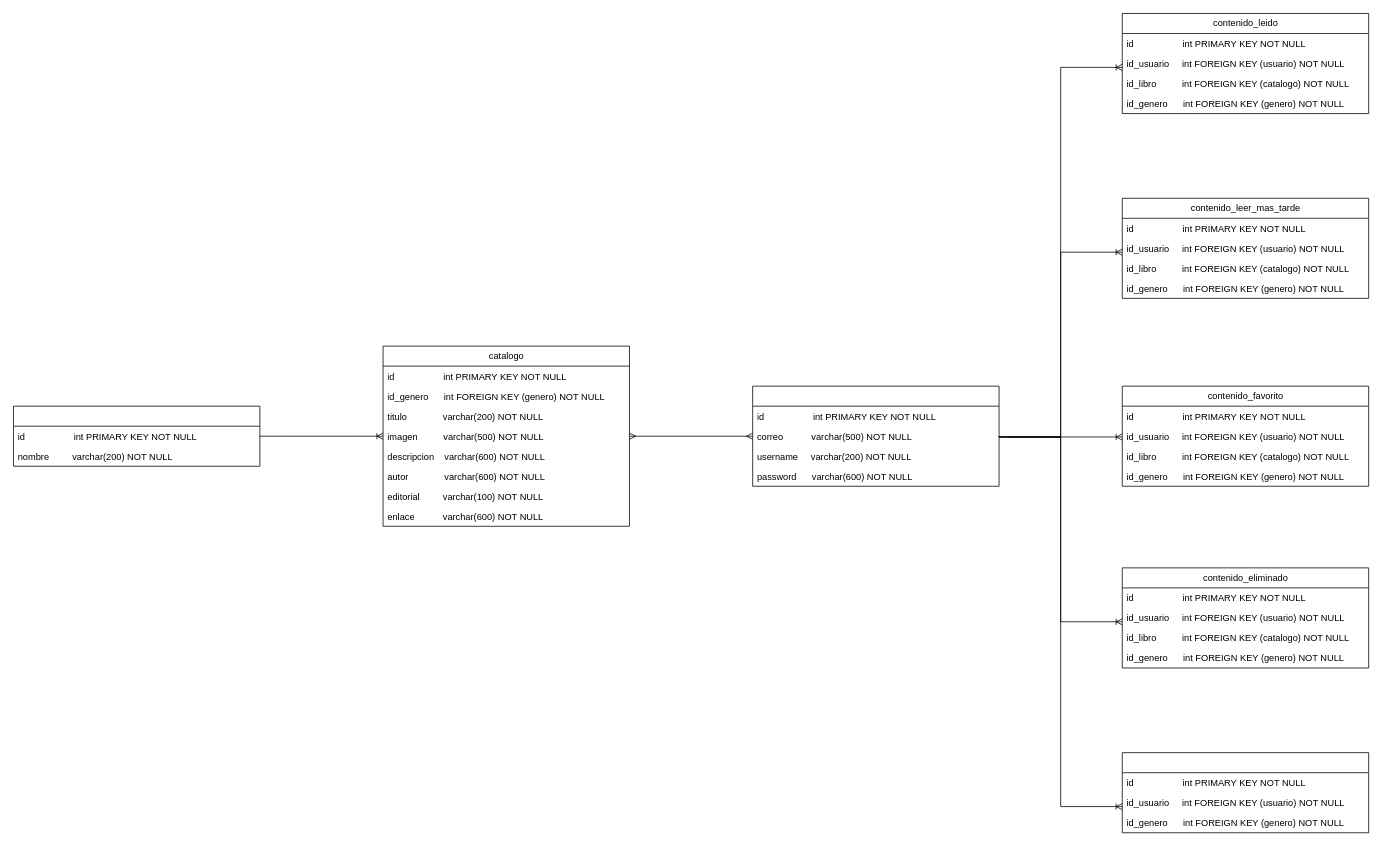
Some shapes in this 1382 by 849 pixel diagram are drawn without their labels. Here are the shapes that lost their labels. From the top down, the box of each, then its label:
(13, 405, 260, 466): genero
(752, 385, 999, 486): usuario
(1122, 752, 1369, 833): genero_favoritio
